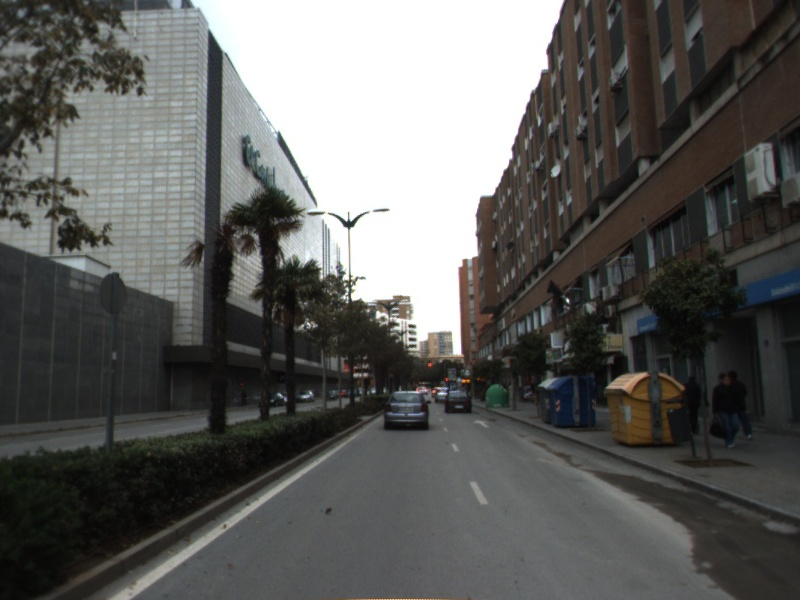STRAIGHT: (471, 418, 492, 430)
